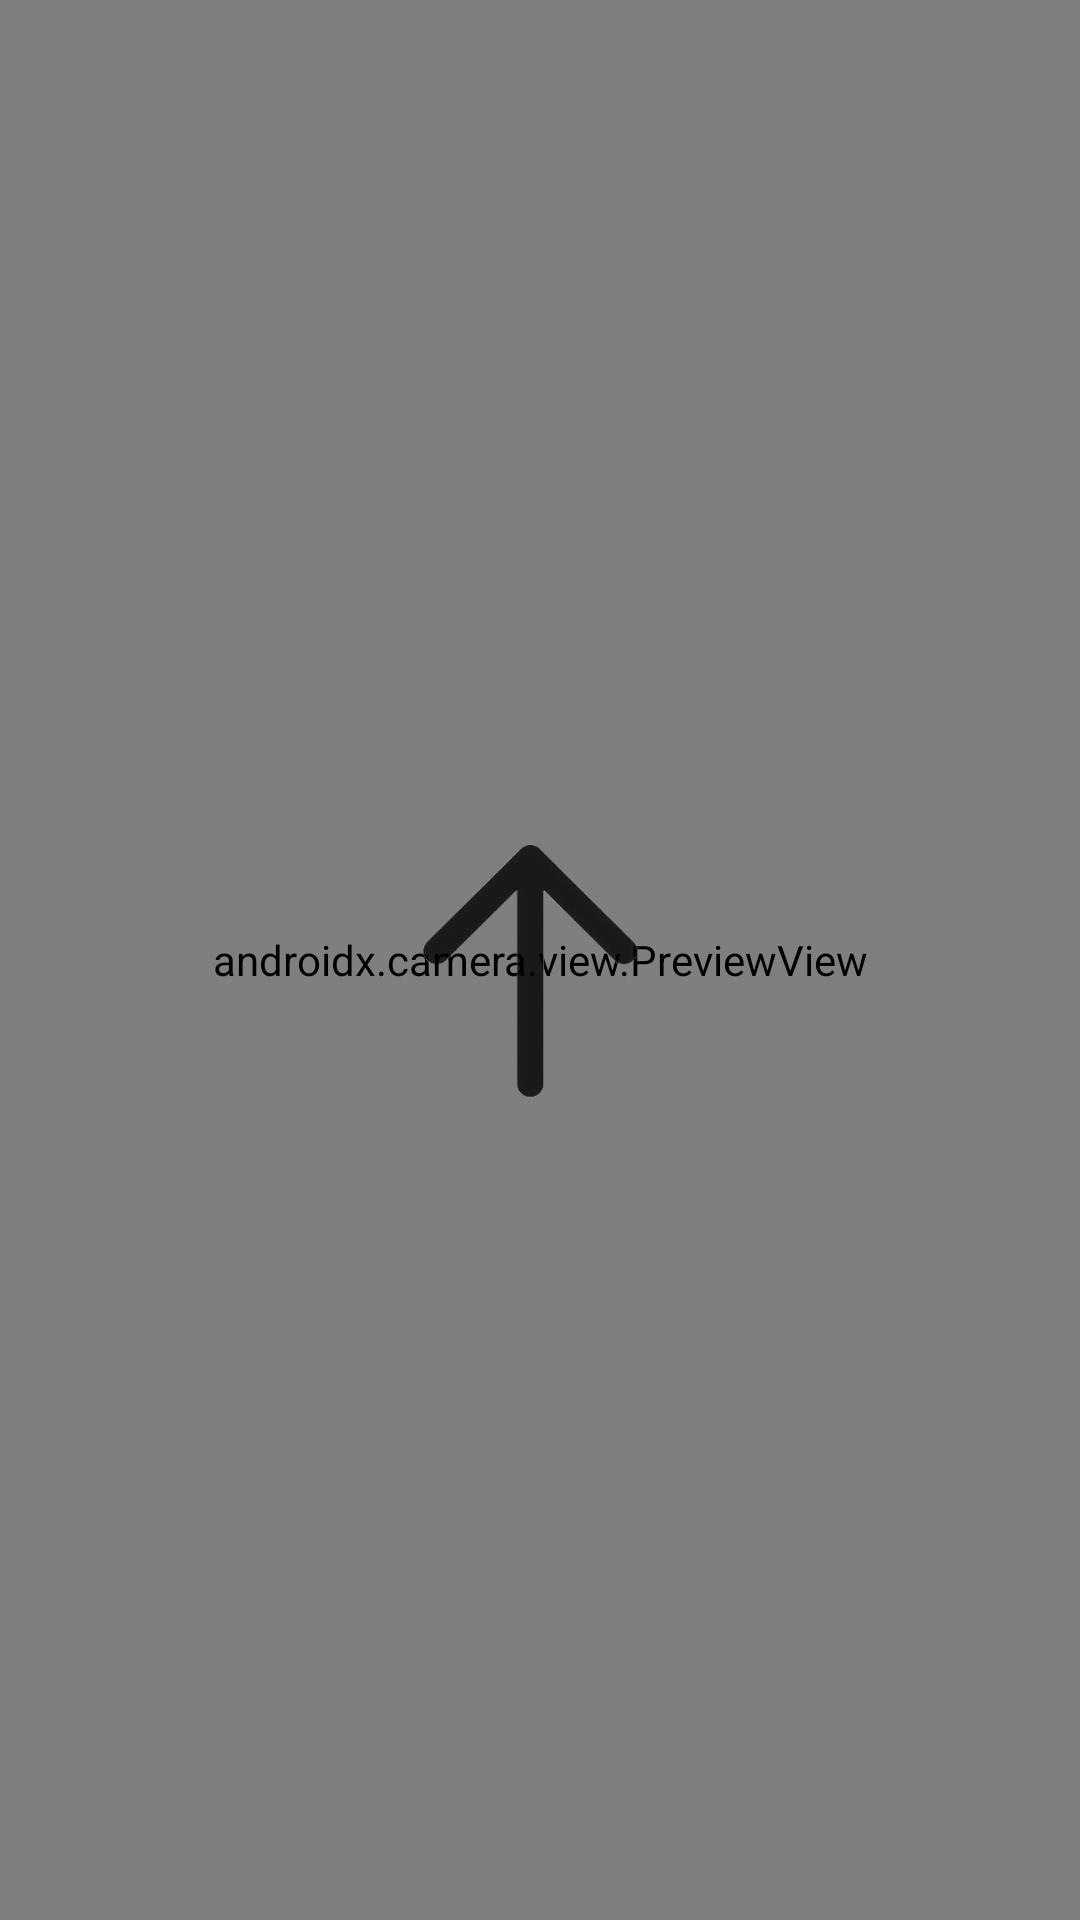

Where icons sit on this 1080 x 1920 app screen, as bbox(x1, y1, x2, y2):
arrow: bbox(390, 845, 690, 1097)
